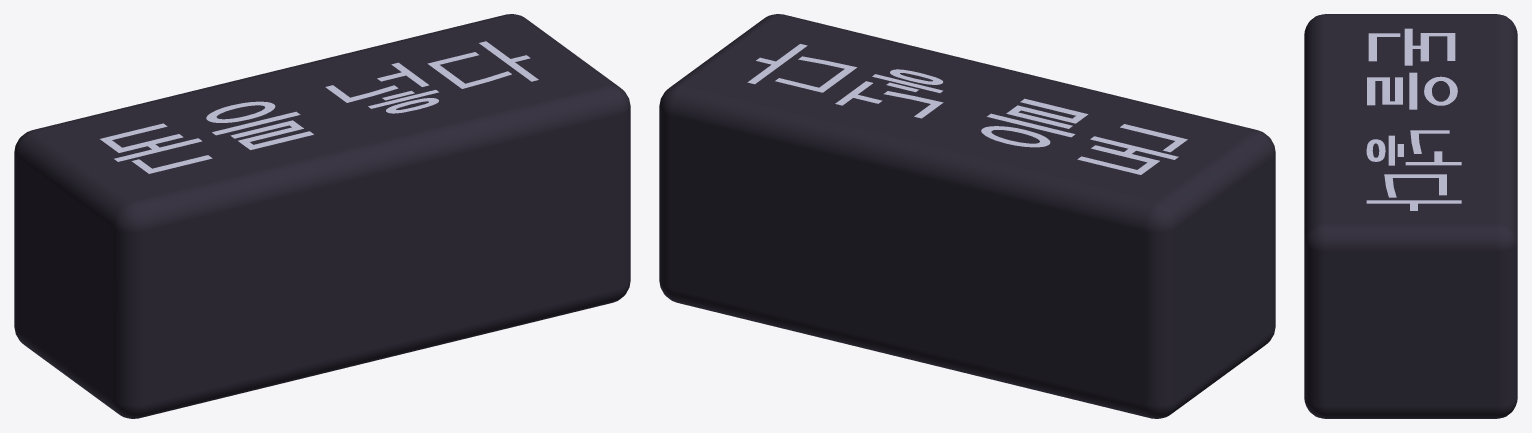
The model's file is deposit_money.glb.
3 views of the same model, side by side, from view 1: azimuth 30°, elevation 25°; view 2: azimuth 150°, elevation 25°; view 3: azimuth 270°, elevation 25° (orthographic). The views are drawn at different scales.
Visible parts, largest first — view 1: Cut, Extrude; view 2: Cut, Extrude; view 3: Cut, Extrude.
Part boxes in pixels (x1,y1,x2,y2): Cut: (14, 14, 630, 418); Extrude: (100, 41, 538, 173); Cut: (659, 14, 1275, 418); Extrude: (747, 44, 1187, 174); Cut: (1304, 14, 1517, 418); Extrude: (1366, 28, 1461, 210).
Size of the model in its own units: 5 by 2 by 2.
